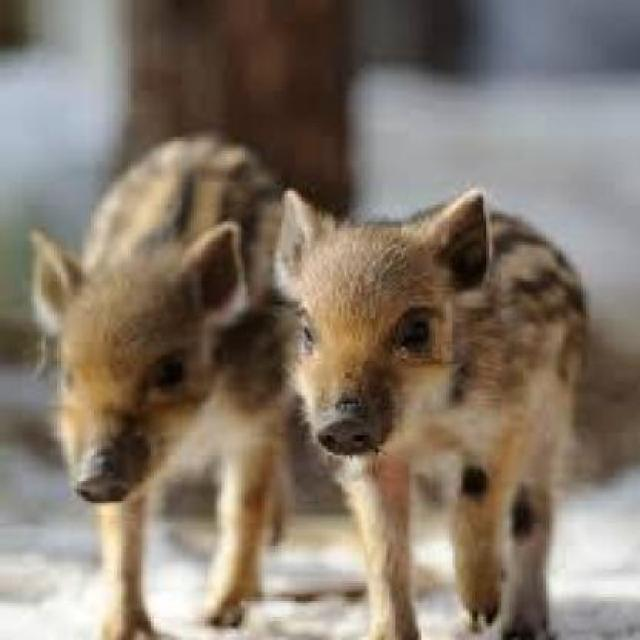wildboar: (273, 187, 598, 640), (26, 131, 314, 640)
